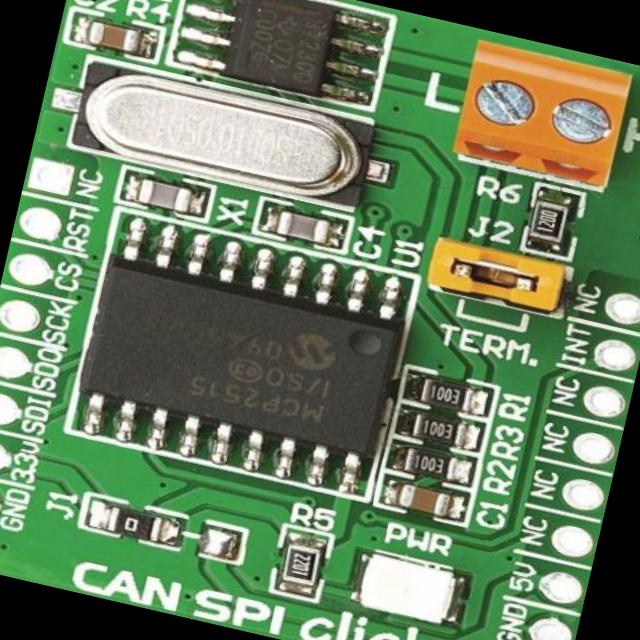IC: (79, 225, 406, 483), (180, 0, 384, 104)
LED: (357, 550, 458, 626)
capacitor: (267, 207, 341, 250), (128, 175, 204, 215), (82, 17, 152, 60), (392, 478, 456, 521)
connector: (451, 38, 636, 191), (423, 236, 568, 312)
resistor: (86, 500, 180, 550), (527, 188, 578, 250), (274, 535, 320, 592), (414, 376, 479, 414), (401, 448, 464, 482), (420, 414, 472, 447)
